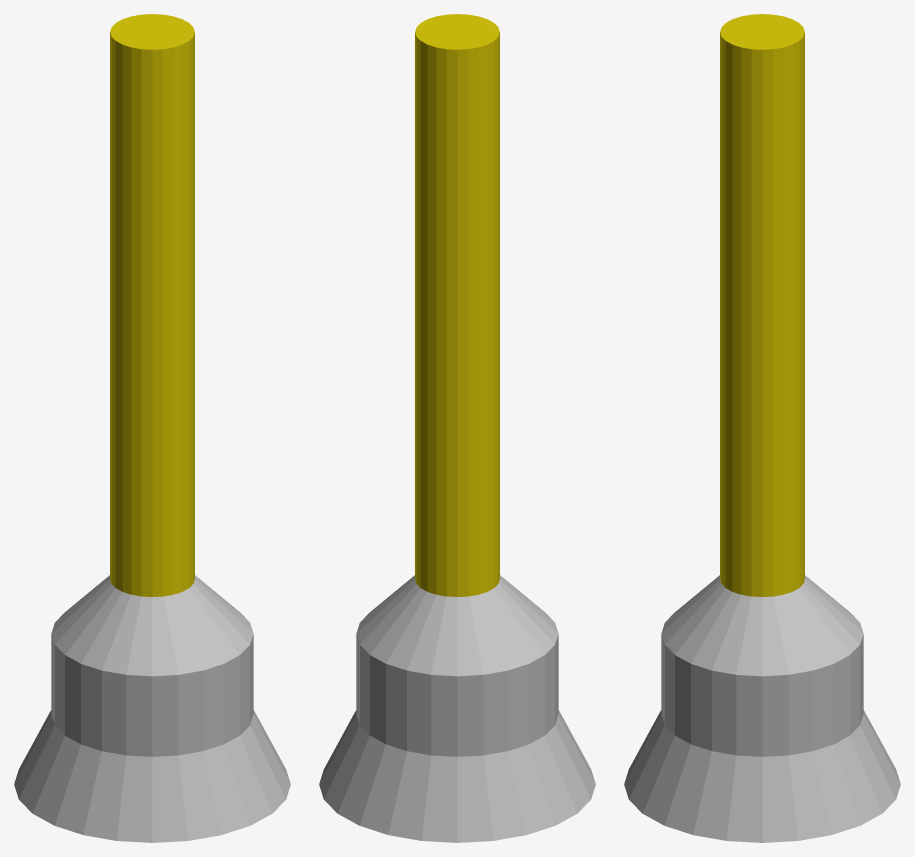
File: oil_lamp.glb
3 renders of one model, left to right at view 1: azimuth 30°, elevation 25°; view 2: azimuth 150°, elevation 25°; view 3: azimuth 270°, elevation 25°, orthographic.
Visible parts, largest first — view 1: complete; view 2: complete; view 3: complete.
Boxes of the visible parts, box(x1,y1,x2,y2) form: complete: box(14, 14, 290, 842); complete: box(319, 14, 595, 842); complete: box(624, 14, 900, 842).
Size of the model in its own units: 0.1 by 0.3 by 0.1.
1 material, 1 textured.
